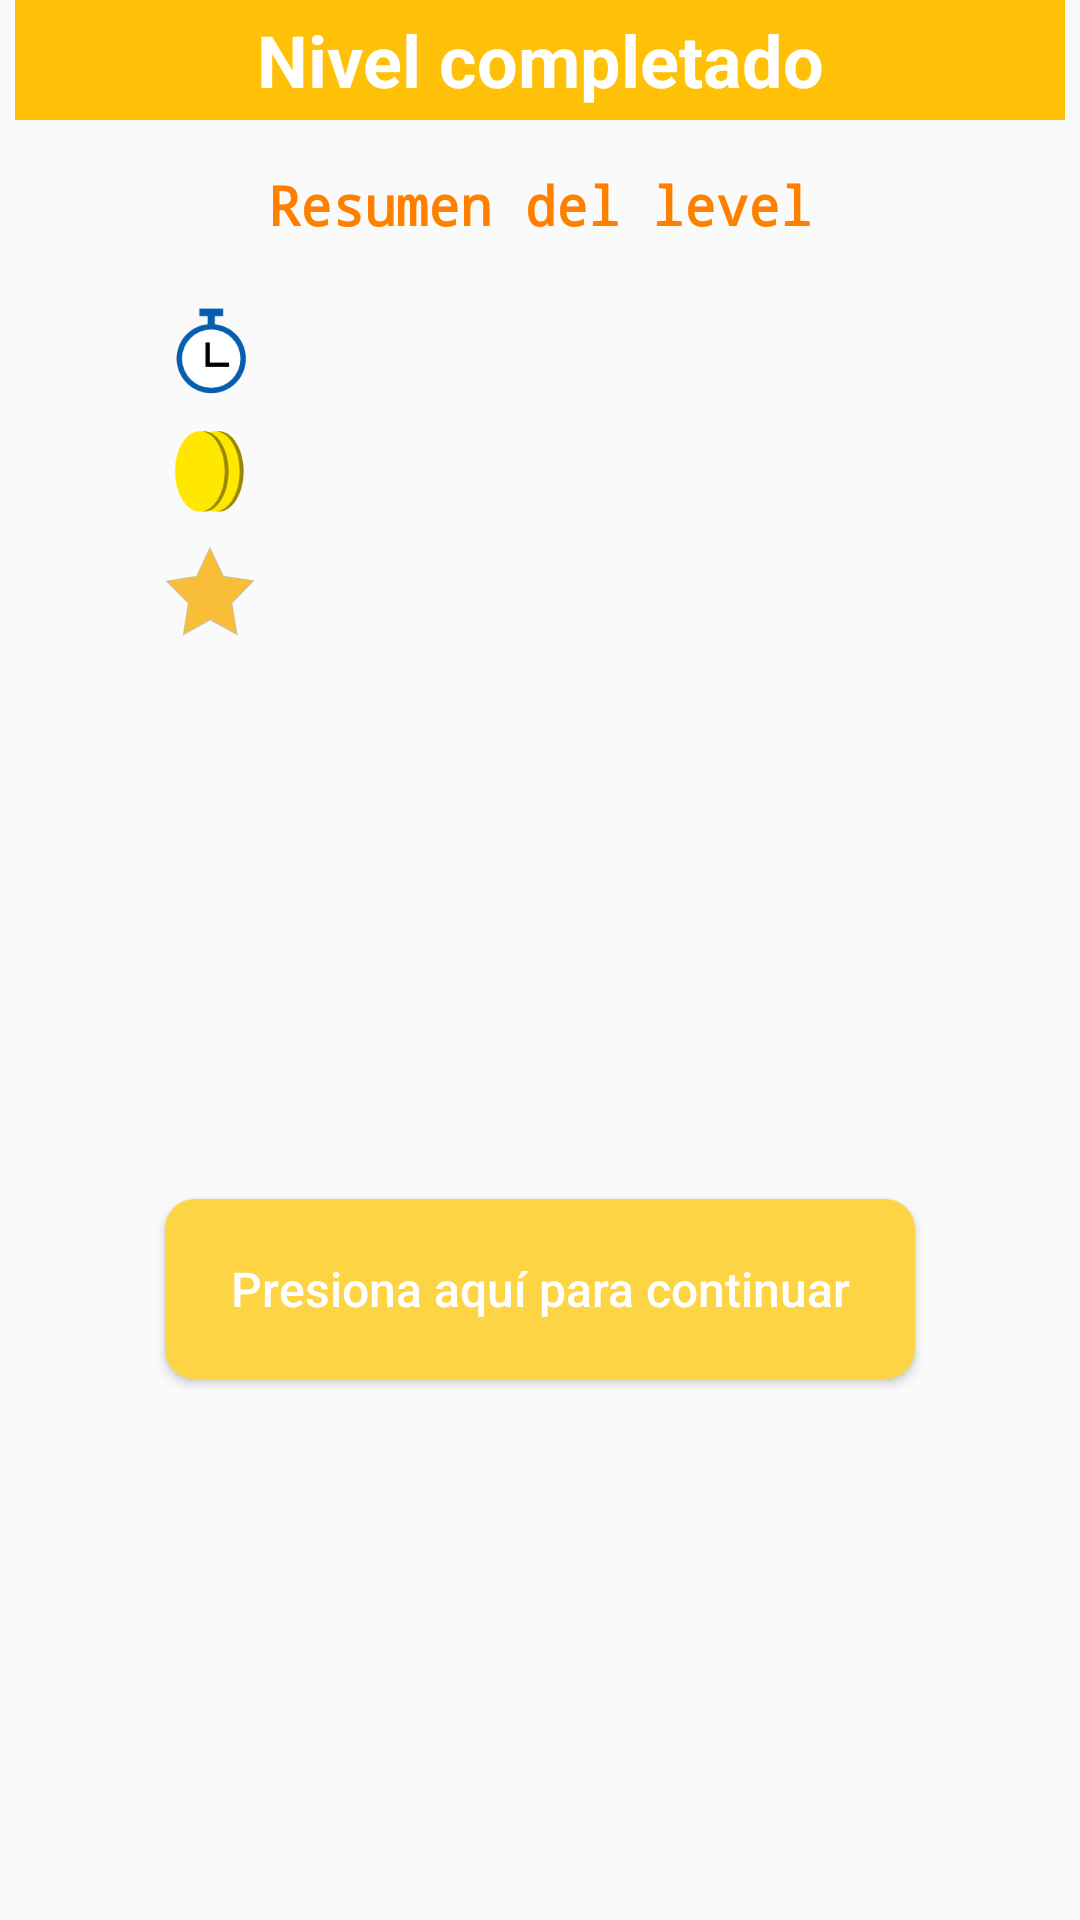

Screen size 1080*1920. Icon name, then its center in pixels as (x=x, y=y):
monedas: (x=209, y=471)
star: (x=210, y=591)
timer: (x=211, y=351)
